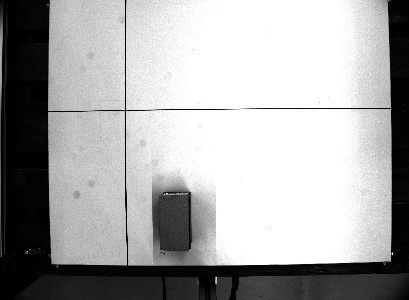b2: (157, 189, 194, 254)
